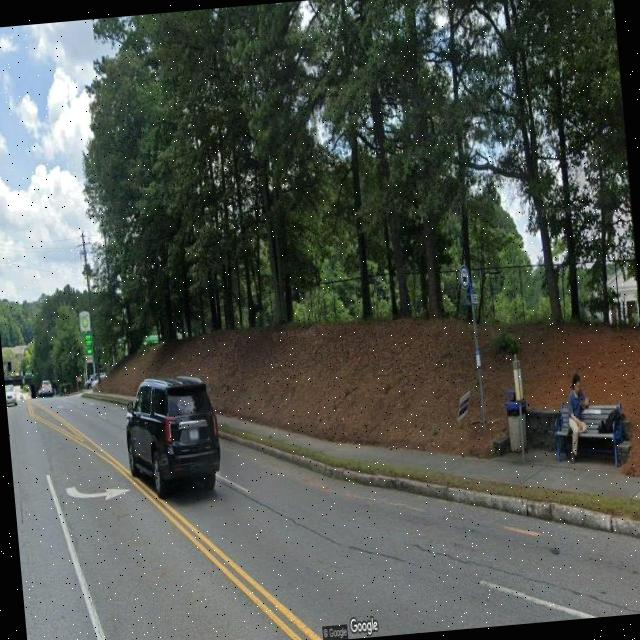seating: (551, 393, 627, 473)
trash_can: (504, 389, 529, 454)
